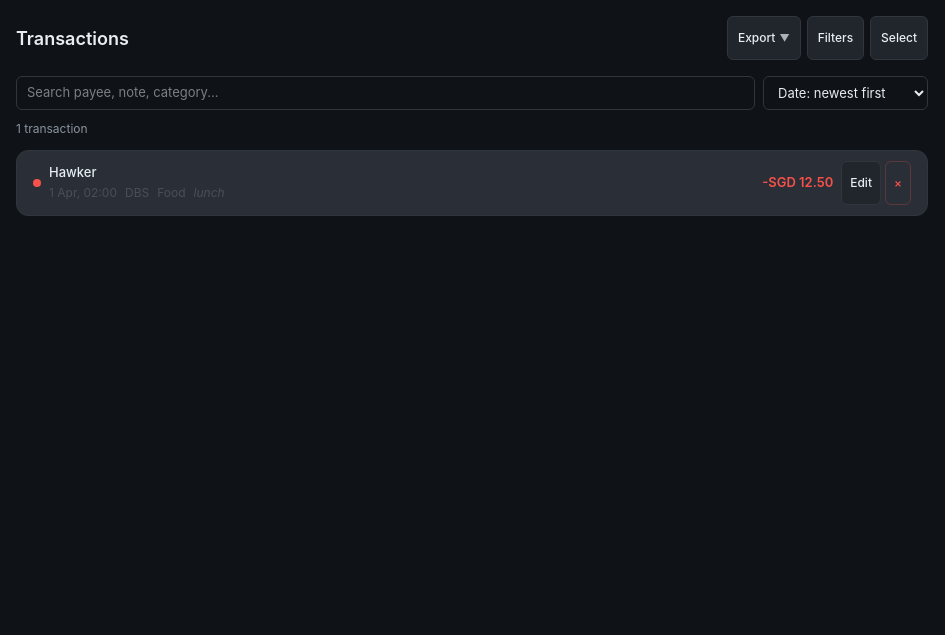
Test: Clone button on edit transaction form › renders [Cancel] [Clone] [Save changes] in that DOM order
expect the text "Hawker" is shown: met, box [49,163,96,182]
Click the button "Edit": click(861, 182) [841,160,881,204]
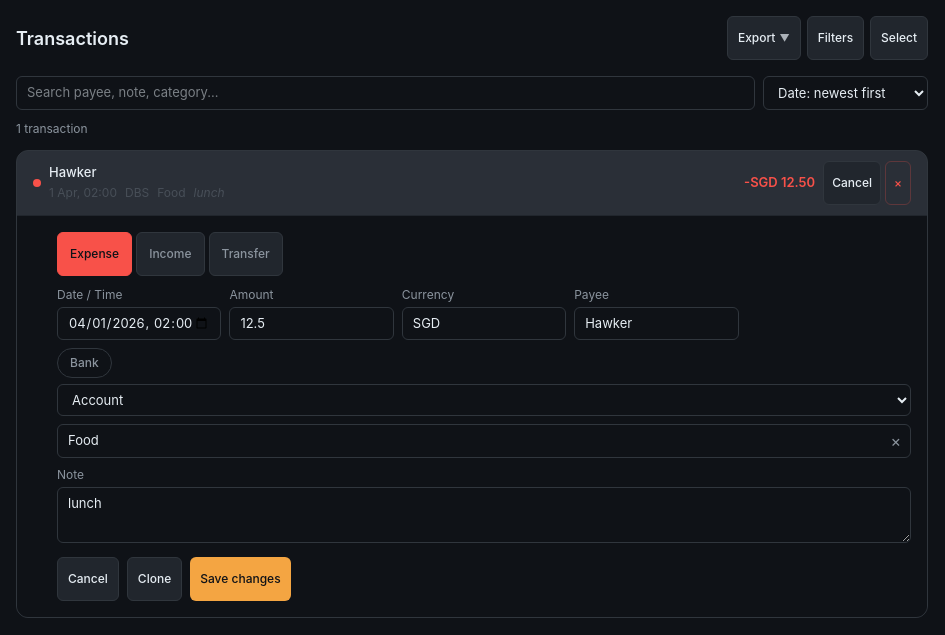
expect the button "Save changes" is shown: met, box [190,556,291,600]
